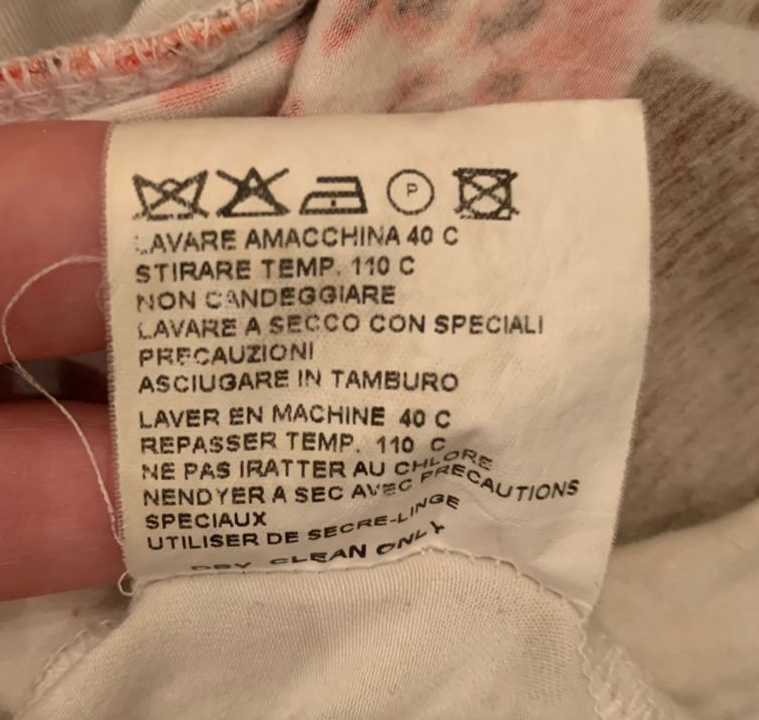do_not_bleach: (213, 160, 295, 222)
do_not_tumble_drying: (449, 160, 524, 222)
do_not_wash: (125, 166, 211, 226)
dry_clean_tetrachloroethylene_pce_only: (385, 164, 437, 219)
ironing_at_low_temp: (296, 170, 370, 217)
